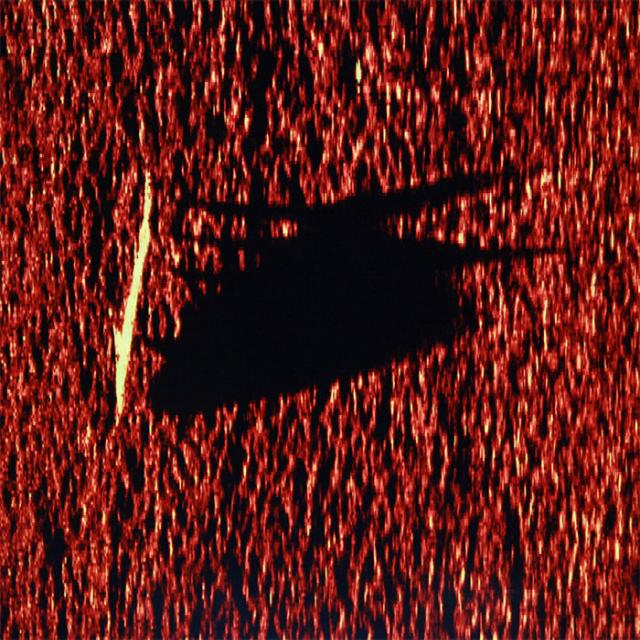fish: (110, 158, 151, 425)
